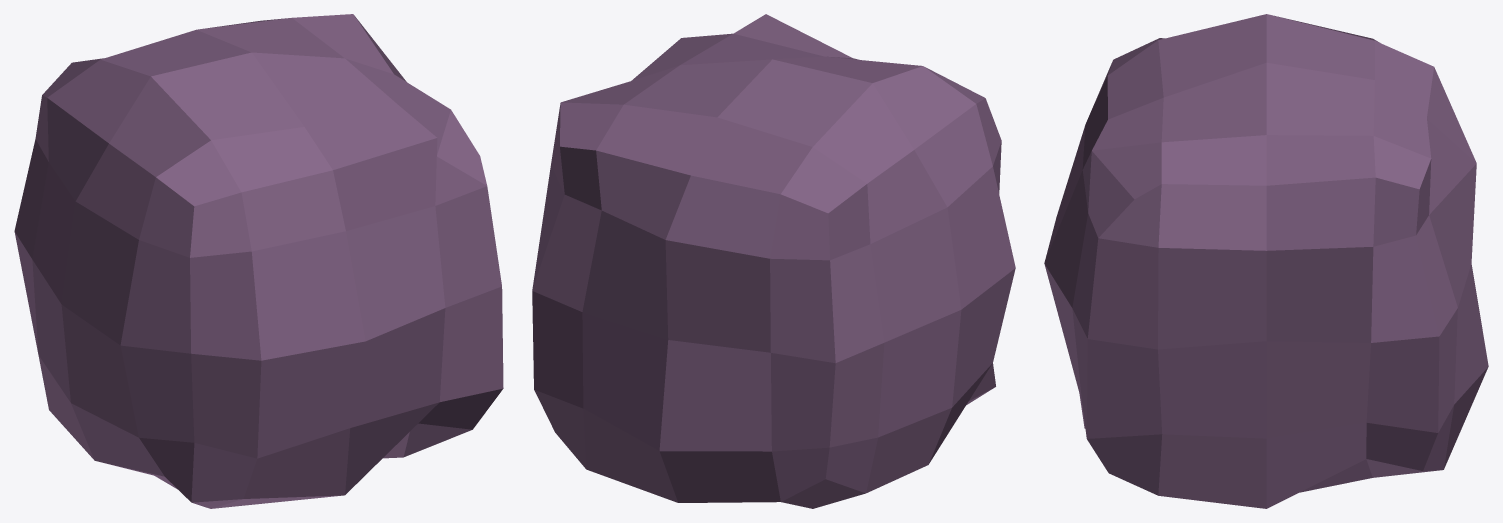
File: block.obj
3 views of the same model, side by side, from view 1: azimuth 30°, elevation 25°; view 2: azimuth 150°, elevation 25°; view 3: azimuth 270°, elevation 25° (orthographic). The views are drawn at different scales.
Parts seen in each view (by area): view 1: 立方体.004; view 2: 立方体.004; view 3: 立方体.004.
Boxes of the visible parts, x1,y1,x2,y2 form: 立方体.004: [14, 14, 503, 508]; 立方体.004: [532, 14, 1015, 508]; 立方体.004: [1044, 14, 1488, 508].
Bounding box in the file's own units: 1.06 × 1.13 × 1.13.
1 material, 1 textured.
